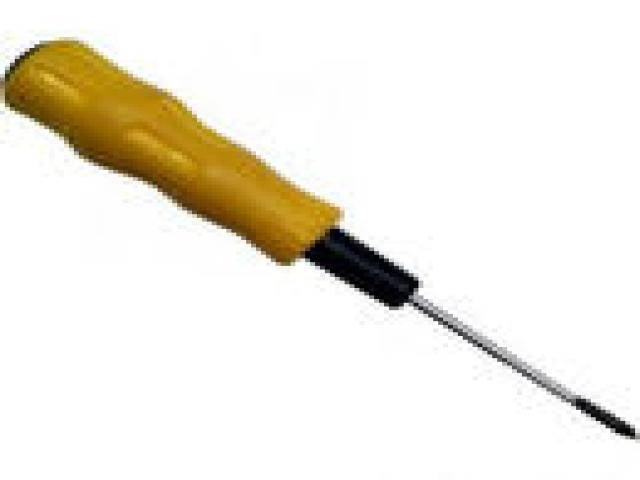Screwdriver: (9, 40, 638, 437)
